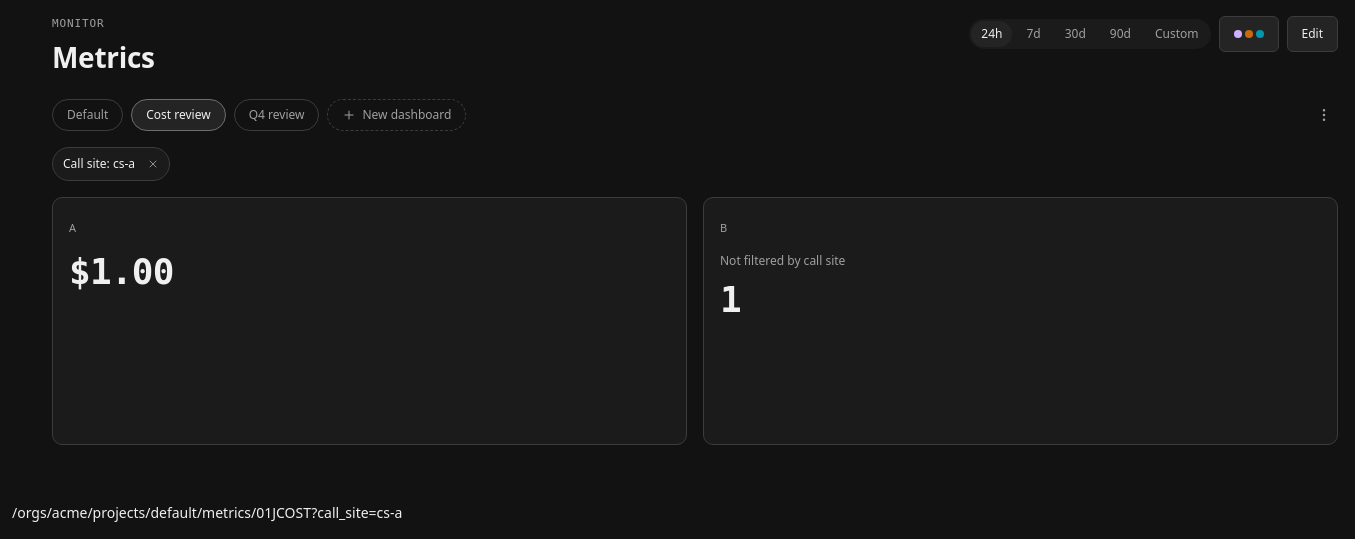
Test case: reading › theCallSiteChipFiltersEveryWidgetThatHasTheDimensionAndClears
Expected: the text "Not filtered by call site" is shown, [720,252,845,269]
Expected: the text "Call site: cs-a" is shown, [63,155,135,173]
Click the button named "Clear the call-site filter": (153, 164) [139,150,167,178]
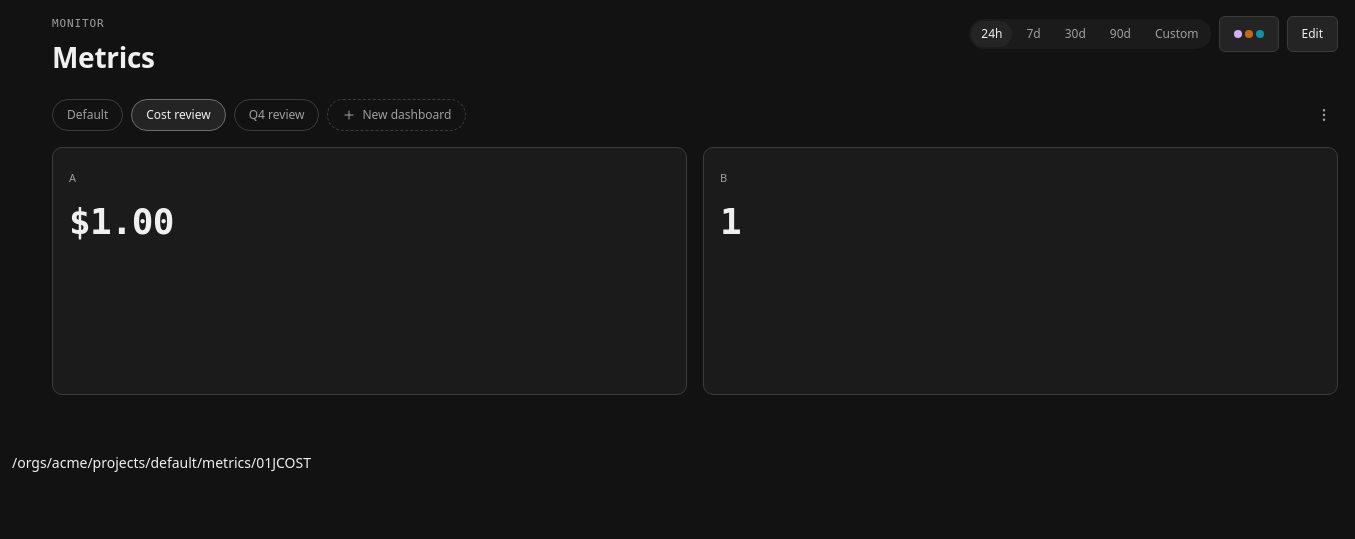
Result: the text "Call site: cs-a" is gone
